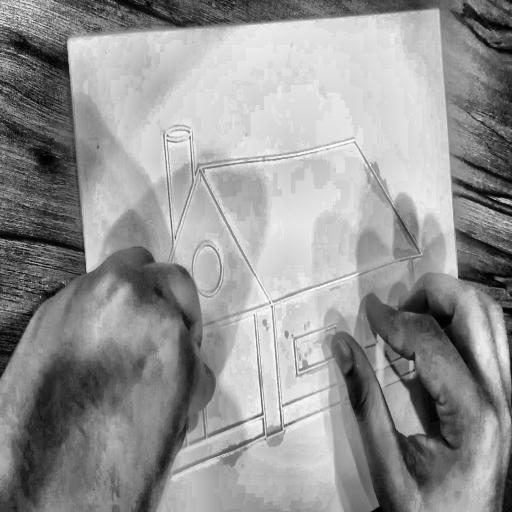bottom_right: (468, 483, 477, 499)
house: (123, 86, 453, 500)
top_left: (64, 33, 72, 49)
top_right: (435, 5, 442, 16)
